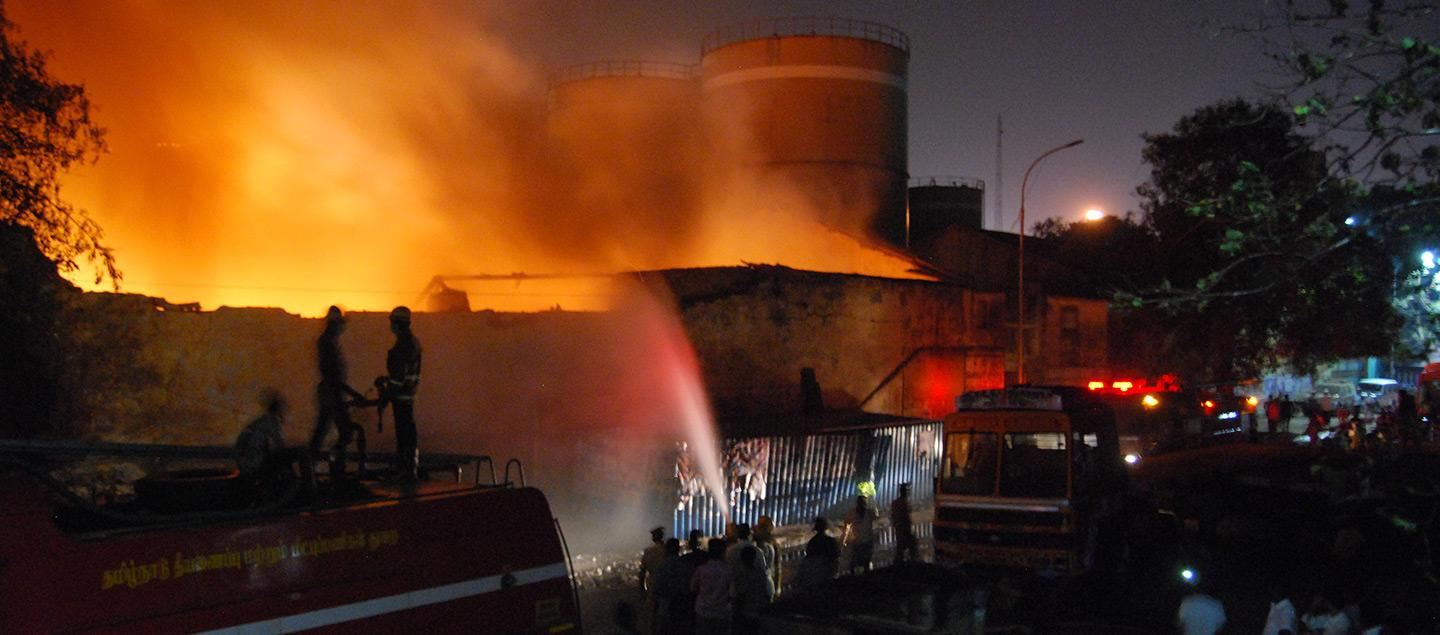Fire-engine: (21, 489, 591, 635)
